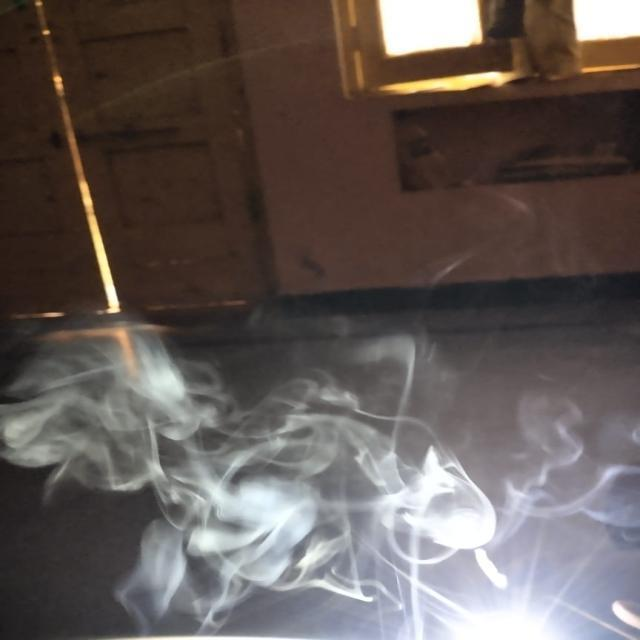fire: (0, 311, 503, 614)
